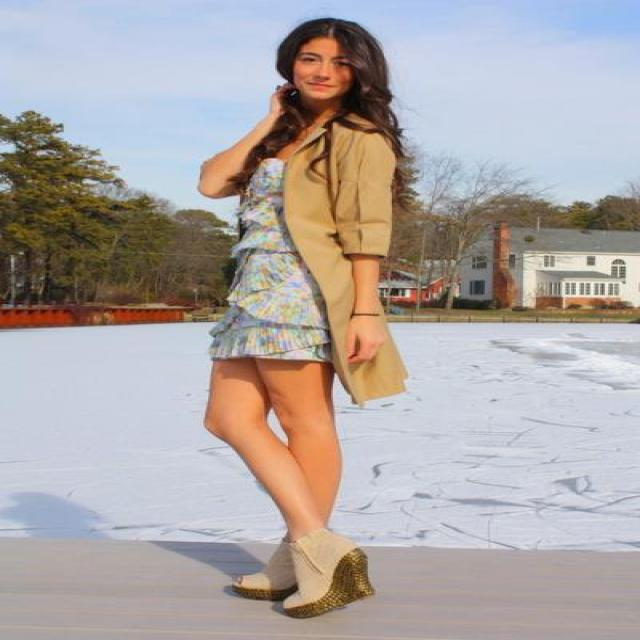dress: (208, 156, 358, 368)
jacket: (284, 109, 406, 406)
shoe: (225, 526, 372, 617)
